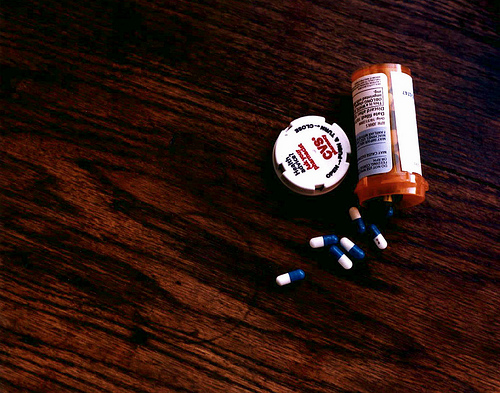pill bottle: (351, 61, 429, 214)
